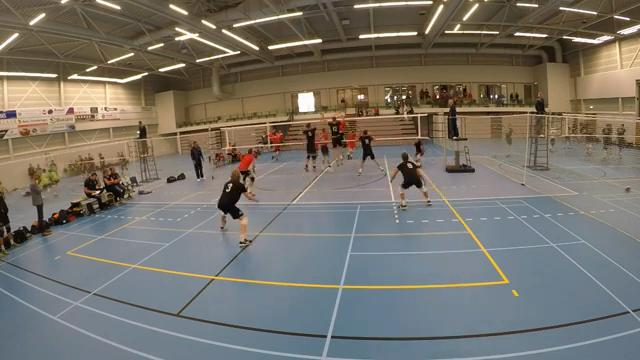Block: (319, 111, 350, 168), (294, 117, 320, 174)
Player: (218, 169, 256, 246), (390, 152, 430, 209), (358, 130, 383, 175), (238, 148, 254, 194), (320, 128, 330, 169), (269, 129, 282, 160), (414, 139, 425, 167), (347, 131, 356, 159)
